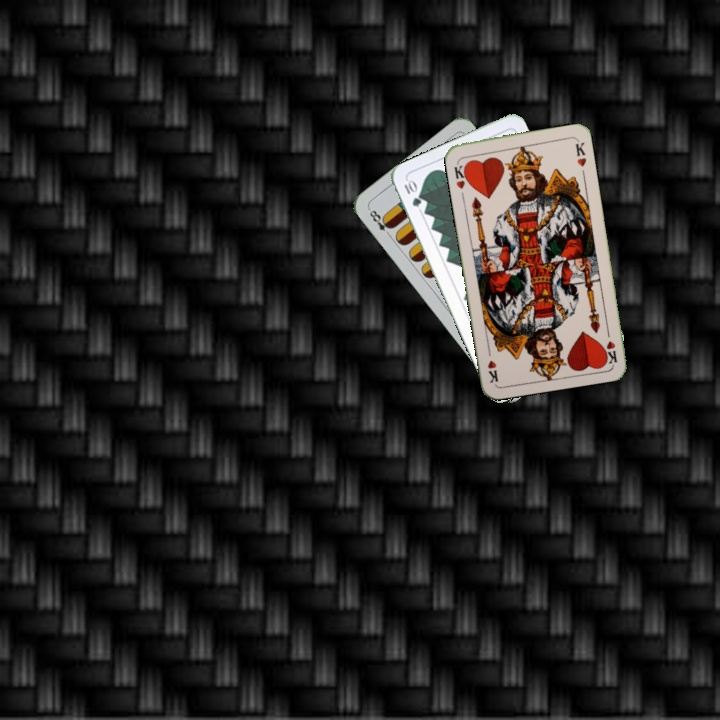E8: (365, 205, 395, 240)
G10: (400, 176, 424, 209)
HK: (600, 324, 620, 365), (450, 157, 472, 191)
